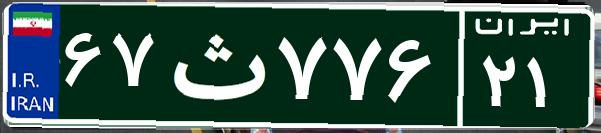1: (525, 38, 570, 115)
2: (475, 38, 525, 113)
6: (385, 28, 445, 110), (57, 26, 110, 107)
7: (273, 28, 330, 110), (330, 28, 385, 110), (110, 28, 158, 105)
ث: (158, 15, 273, 115)
